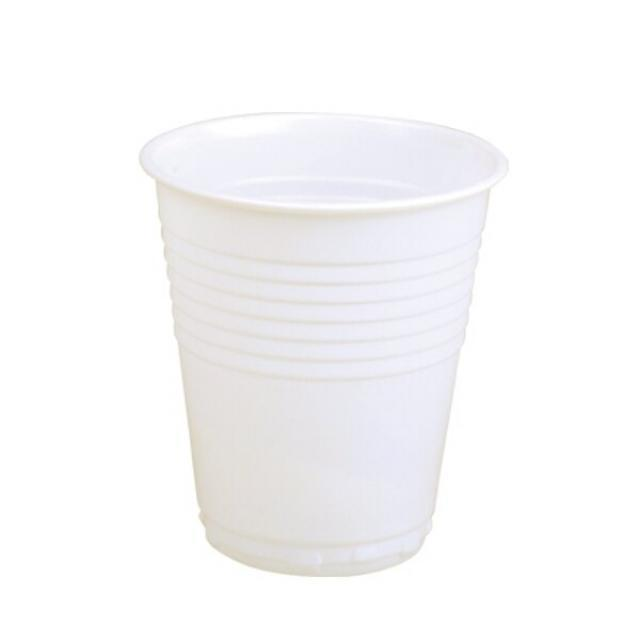Plastic: (140, 104, 505, 576)
